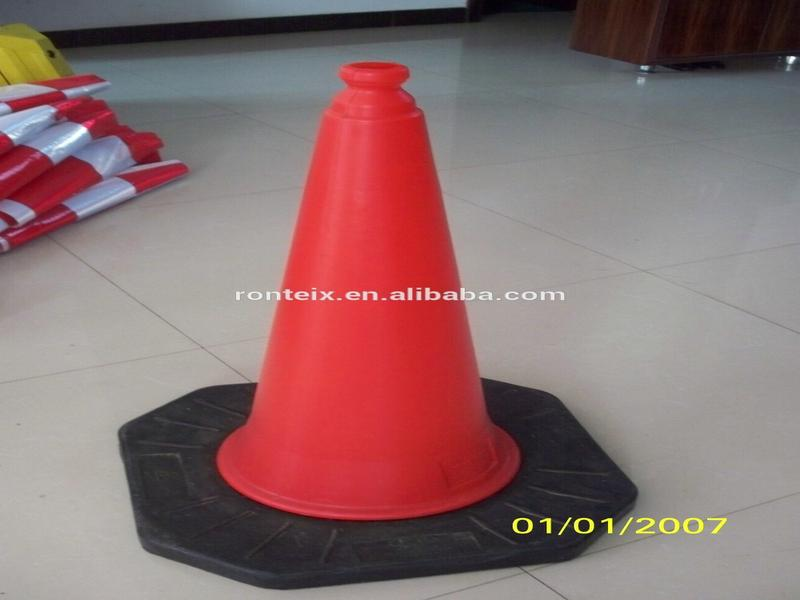Cone1: (111, 59, 639, 591)
